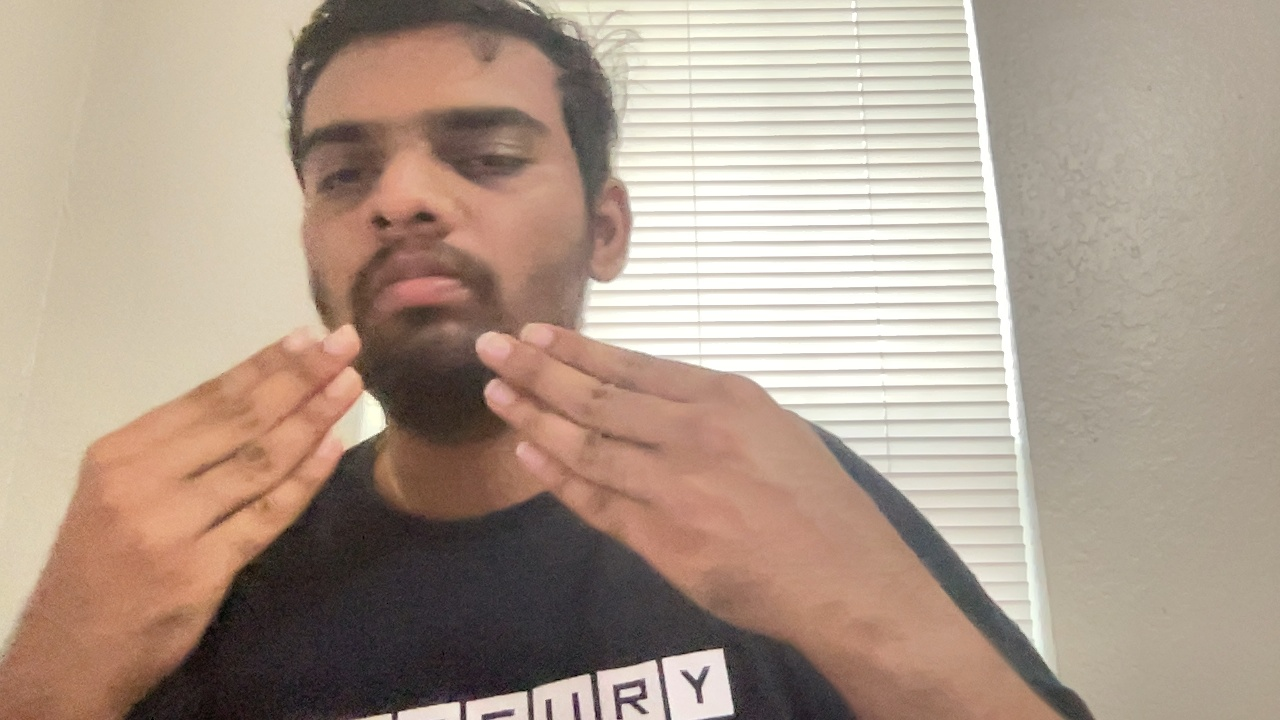thanks: (43, 311, 915, 651)
